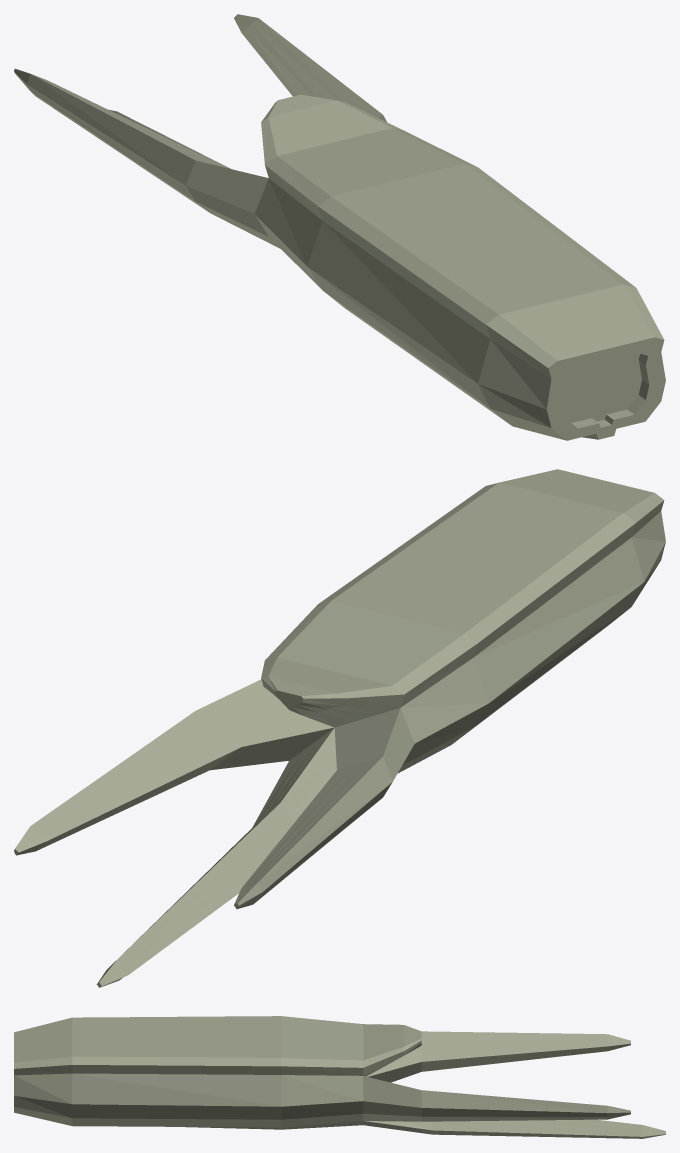
The model's file is trident.glb.
The picture shows the model from 3 angles, top to bottom: view 1: azimuth 30°, elevation 25°; view 2: azimuth 150°, elevation 25°; view 3: azimuth 270°, elevation 25°; orthographic projection. The views are drawn at different scales.
Parts seen in each view (by area): view 1: hull; view 2: hull; view 3: hull.
Part boxes in pixels (x1=…): hull: x1=14, y1=14, x2=665, y2=440; hull: x1=14, y1=469, x2=665, y2=987; hull: x1=14, y1=1016, x2=665, y2=1138.
Bounding box in the file's own units: 30.03 × 19.58 × 112.
